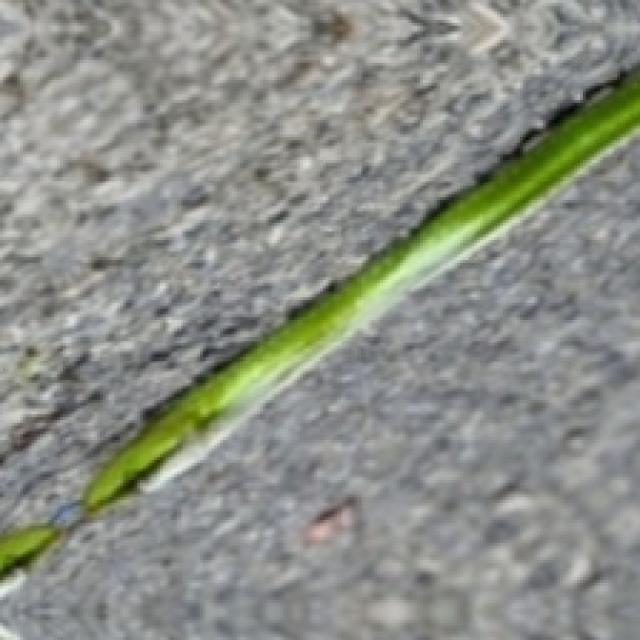red-tailed green ratsnake: (3, 140, 637, 637)
